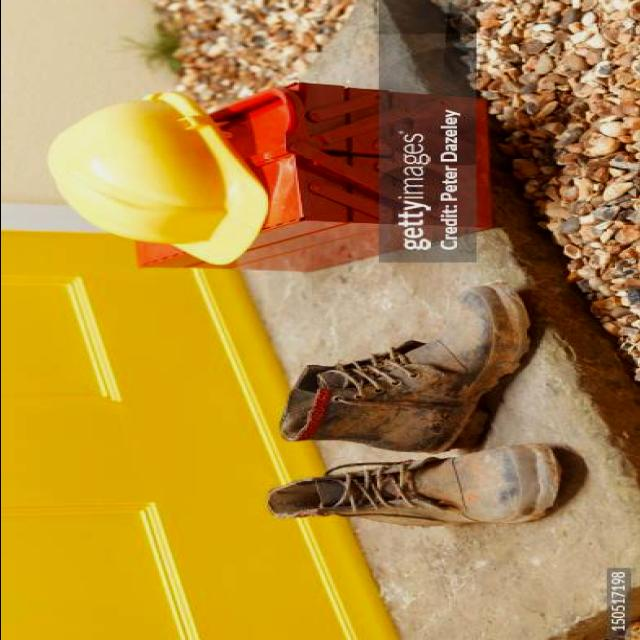Boots: (259, 279, 572, 532)
Hard Hat: (35, 87, 265, 266)
